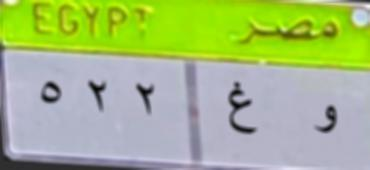2: (82, 71, 113, 120), (132, 78, 161, 125)
5: (34, 72, 64, 115)
ghayn: (223, 78, 258, 144)
waw: (307, 96, 342, 142)
